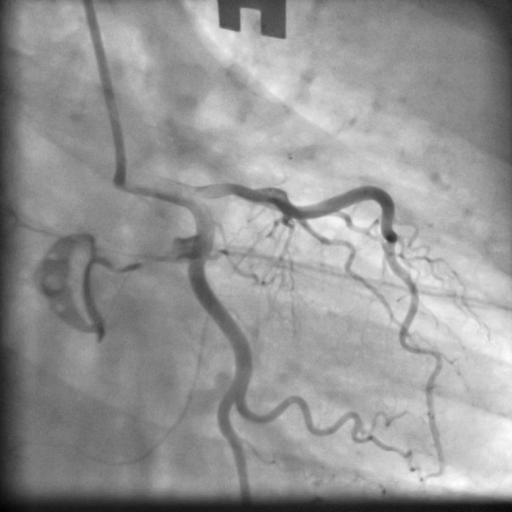Stenosis: (214, 180, 265, 204)
